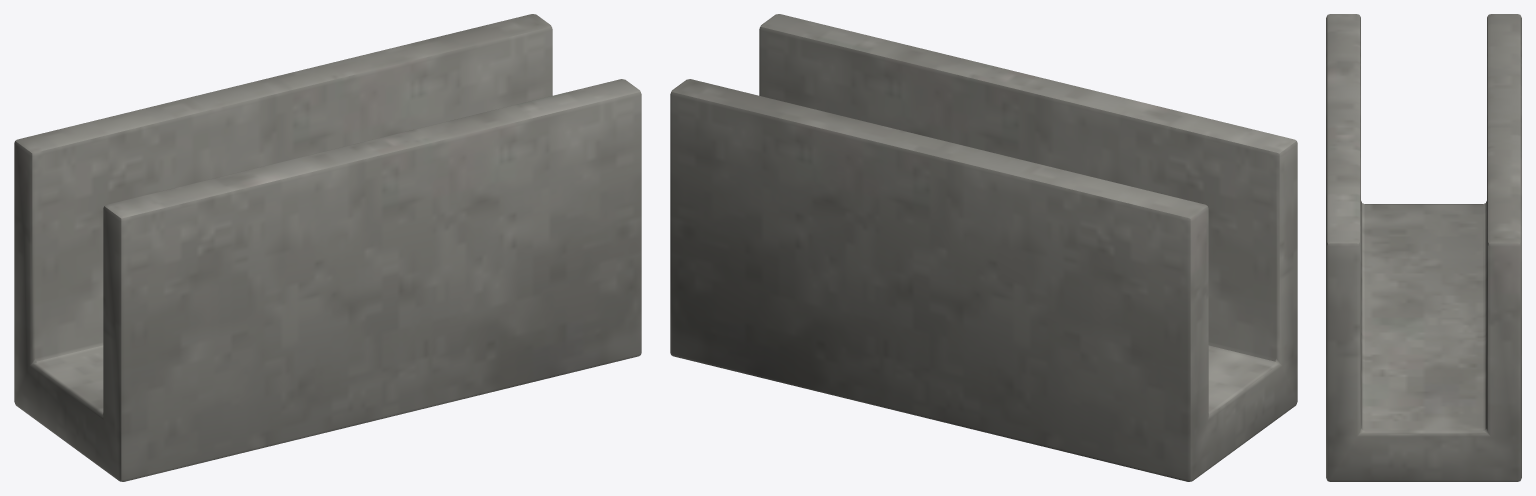
Rendered from ALV-BCO-003_lod1.glb.
3 renders of one model, left to right at view 1: azimuth 30°, elevation 25°; view 2: azimuth 150°, elevation 25°; view 3: azimuth 270°, elevation 25°, orthographic. The views are drawn at different scales.
Parts seen in each view (by area): view 1: ALV-BCO-003_peca; view 2: ALV-BCO-003_peca; view 3: ALV-BCO-003_peca.
Part boxes in pixels (<box>): ALV-BCO-003_peca: <box>14,14,641,481</box>; ALV-BCO-003_peca: <box>670,14,1297,481</box>; ALV-BCO-003_peca: <box>1326,14,1521,481</box>.
Size of the model in its own units: 0.39 by 0.19 by 0.14.
1 material, 1 textured.
